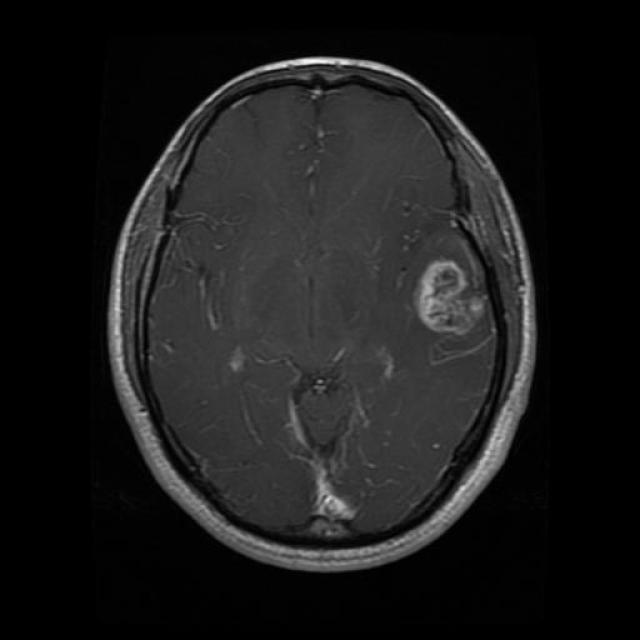glioma: (378, 232, 477, 352)
